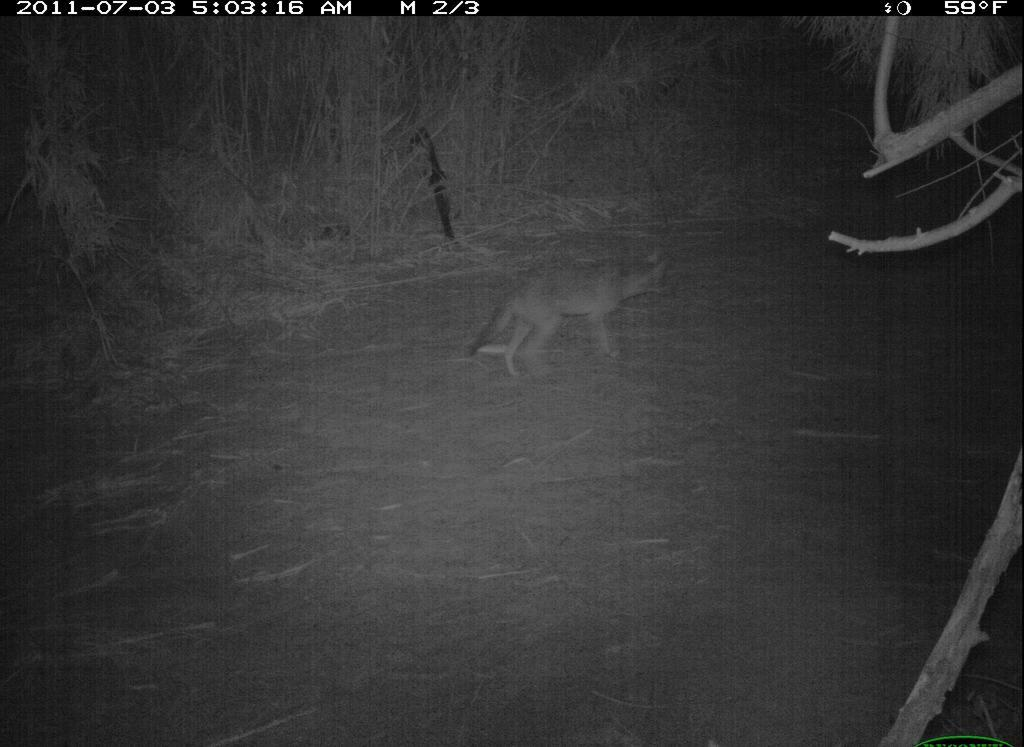coyote: (466, 244, 680, 387)
